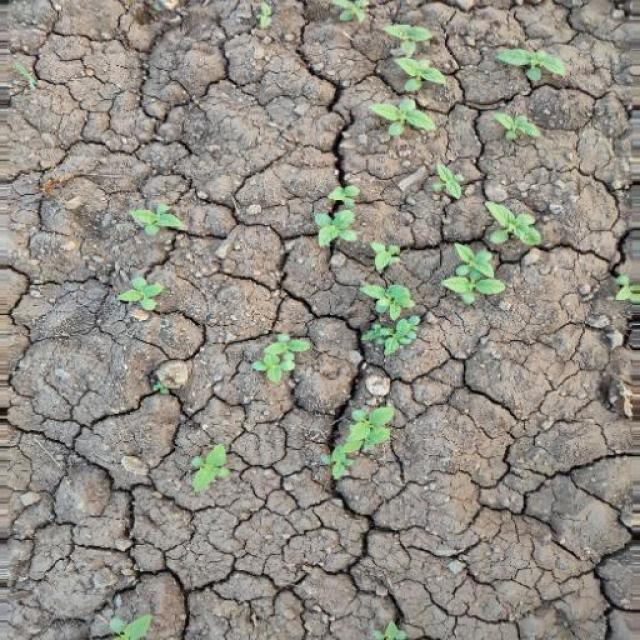crop: (112, 195, 188, 317), (366, 20, 442, 142), (492, 40, 568, 152), (325, 392, 400, 488), (438, 242, 514, 314), (306, 180, 366, 255), (246, 328, 306, 390), (480, 195, 542, 254), (183, 441, 235, 495)
